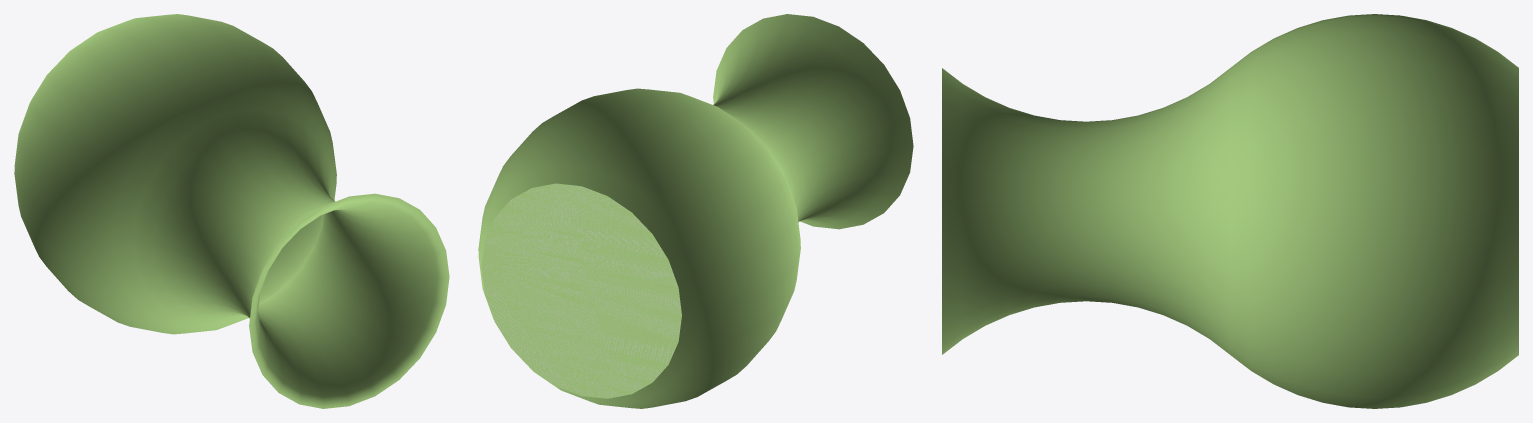
Rendered from model_align.obj.
3 renders of one model, left to right at view 1: azimuth 30°, elevation 25°; view 2: azimuth 150°, elevation 25°; view 3: azimuth 270°, elevation 25°, orthographic. The views are drawn at different scales.
Parts seen in each view (by area): view 1: mesh1_mesh1-geometry; view 2: mesh1_mesh1-geometry; view 3: mesh1_mesh1-geometry.
Boxes of the visible parts, bbox=[...] form: mesh1_mesh1-geometry: bbox=[14, 14, 449, 408]; mesh1_mesh1-geometry: bbox=[478, 14, 913, 408]; mesh1_mesh1-geometry: bbox=[942, 14, 1518, 408].
Bounding box in the file's own units: 0.1512 × 0.1512 × 0.22.
